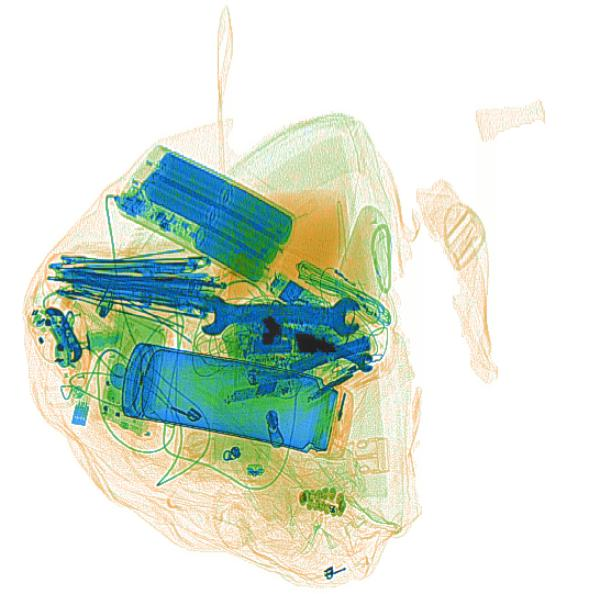battery: (111, 143, 298, 288), (283, 334, 371, 378), (247, 338, 293, 354)
